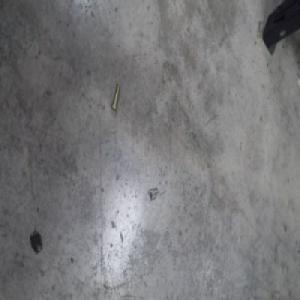Bolt: (110, 82, 121, 112)
